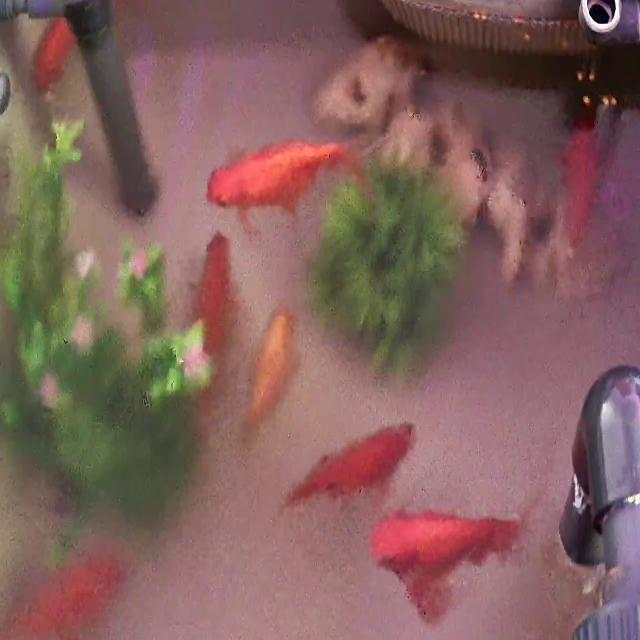fish: (380, 509, 528, 624), (0, 541, 130, 640), (204, 139, 348, 227), (282, 417, 408, 508), (243, 305, 299, 437), (188, 228, 236, 379), (556, 113, 605, 255), (33, 12, 78, 98)
